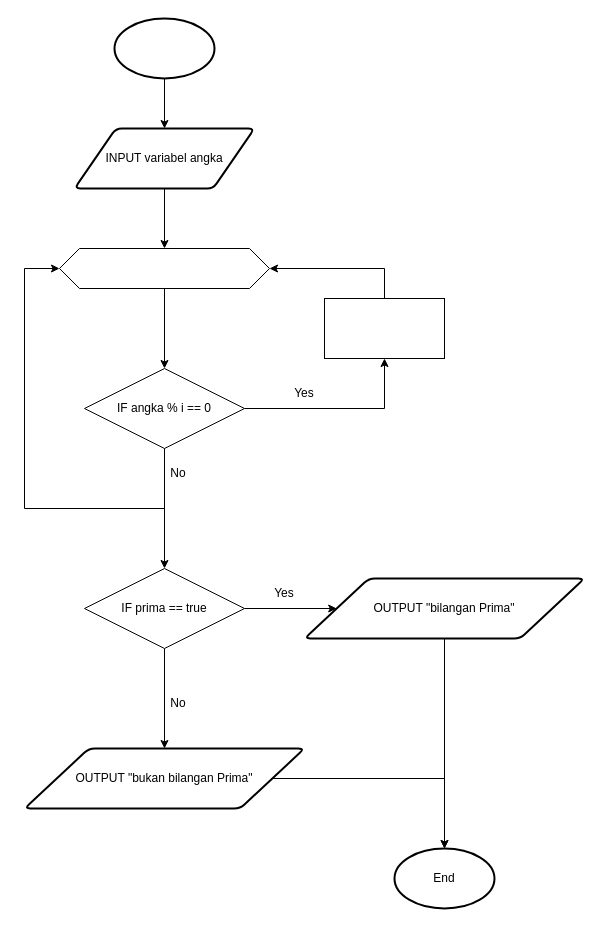
This 603x926 diagram has some shape labels left out. The centre of each missing label's shape, as x and y in pixels:
"FOR i = 2, i < angka-1, i++" belongs at pixel 164 268.
"prima = true" belongs at pixel 384 328.
"Start" belongs at pixel 164 48.
